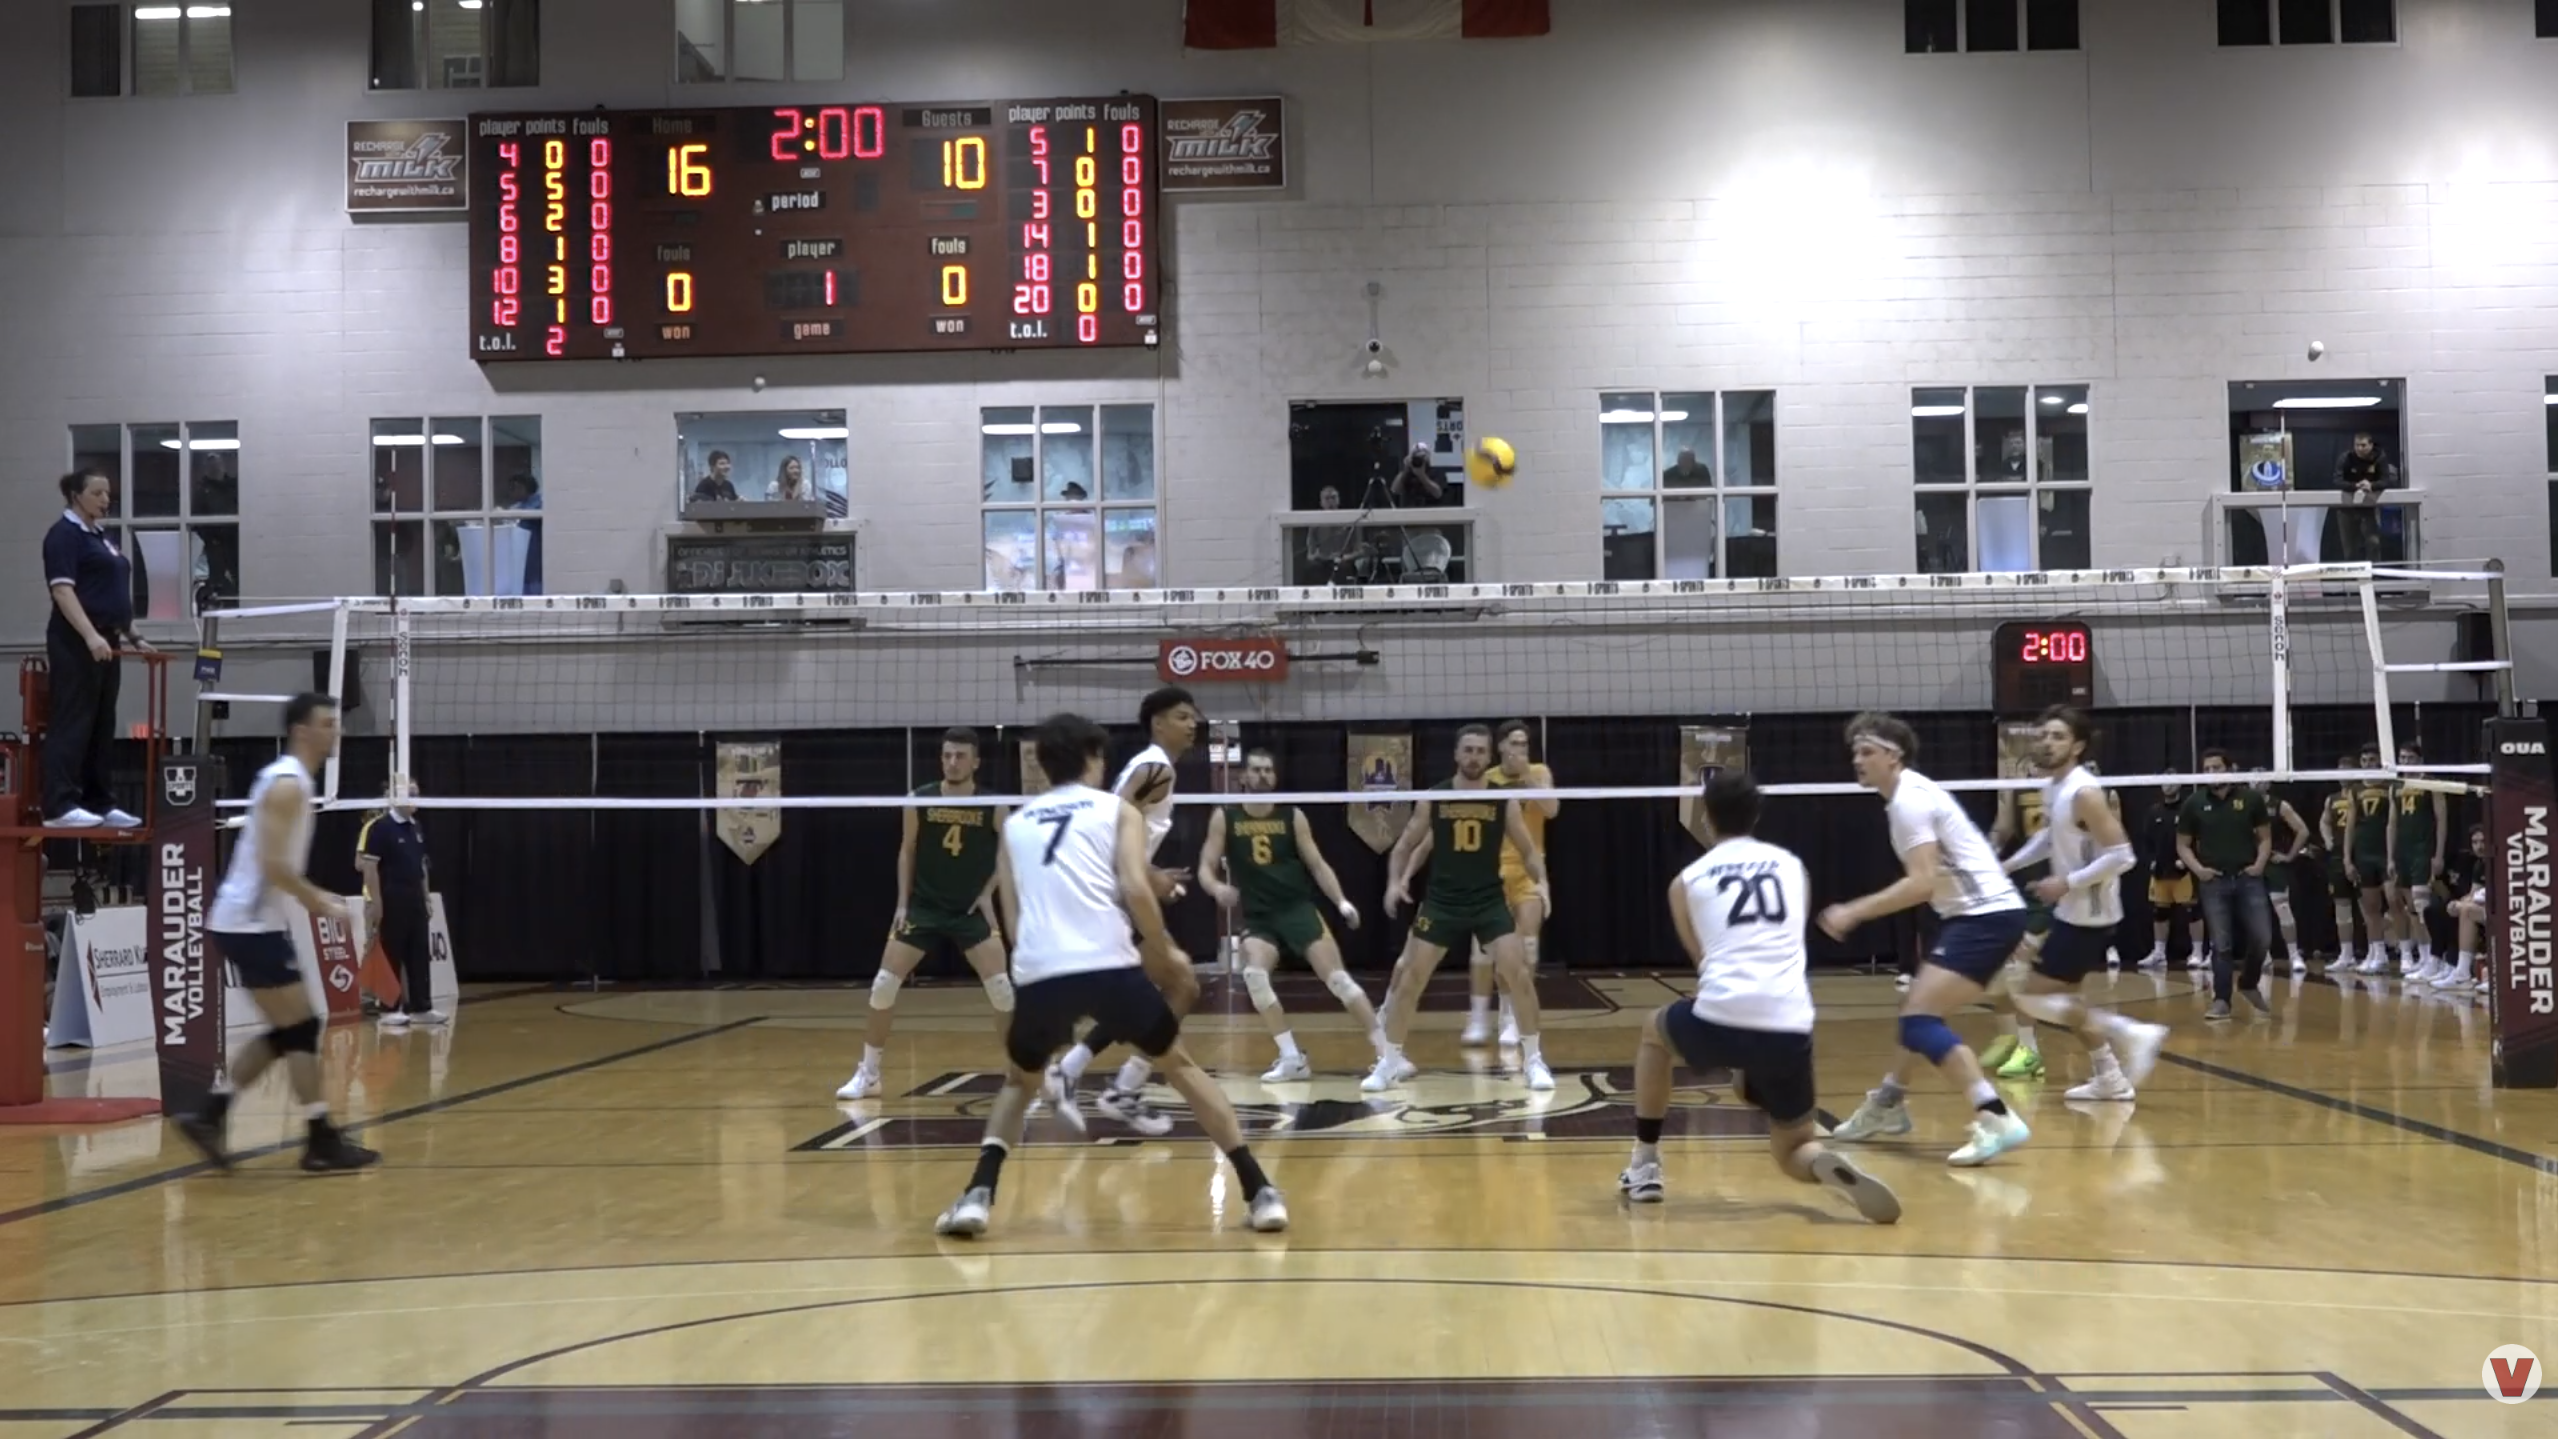Ball: (1462, 434, 1516, 492)
